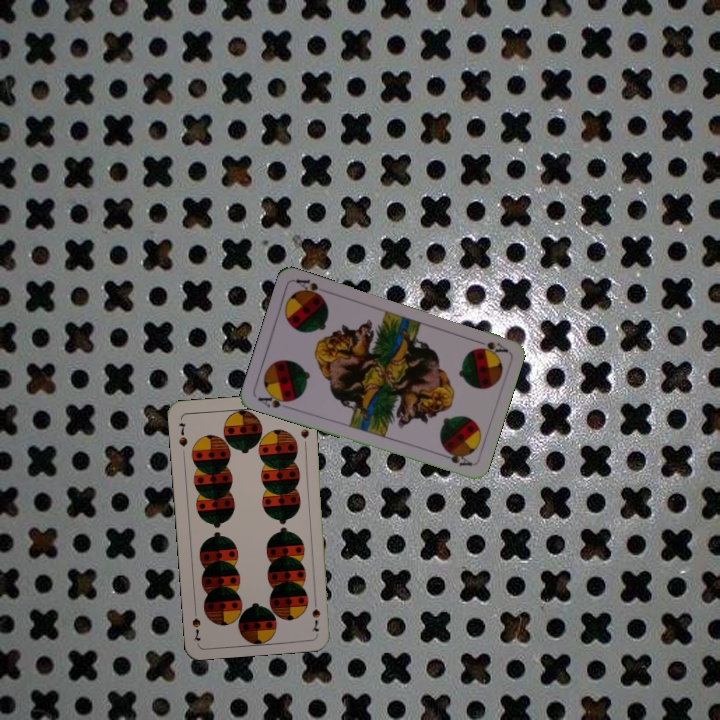S7: (308, 594, 323, 634), (175, 418, 190, 449)
SA: (253, 389, 295, 412), (470, 336, 510, 356)
